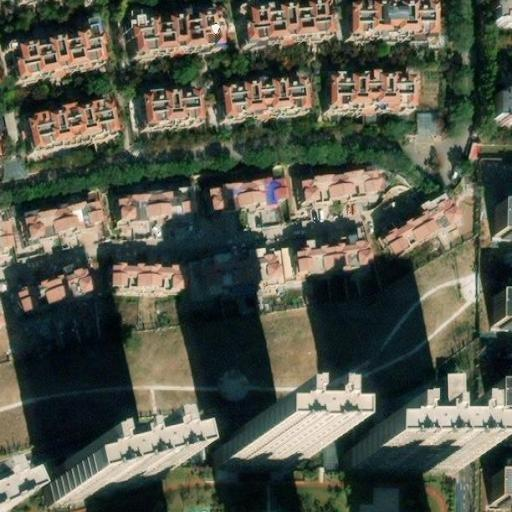building: (48, 455, 160, 512), (26, 95, 123, 153), (385, 194, 464, 262), (14, 22, 108, 79), (343, 435, 456, 475), (133, 4, 225, 53), (16, 263, 94, 319), (24, 195, 105, 245), (224, 73, 314, 117), (243, 0, 331, 43), (298, 165, 382, 207), (223, 427, 304, 469), (116, 185, 197, 226), (207, 247, 284, 290), (333, 67, 414, 107), (354, 0, 441, 36), (295, 235, 370, 272), (145, 83, 206, 128), (206, 176, 283, 211), (114, 263, 184, 289), (488, 195, 512, 240), (487, 469, 512, 508), (488, 291, 511, 330), (489, 88, 512, 123), (0, 218, 14, 251)
